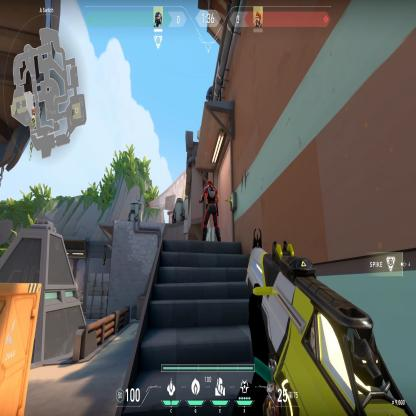enemy: (199, 177, 223, 244)
